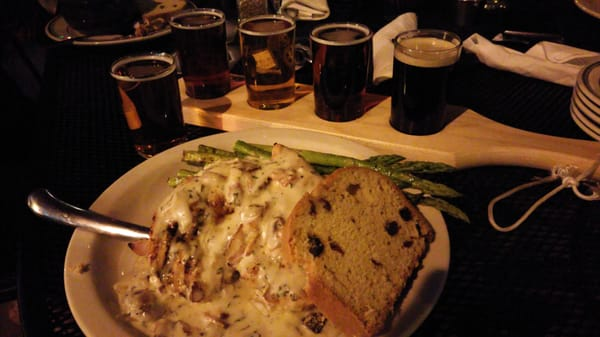salad: (26, 188, 155, 241)
